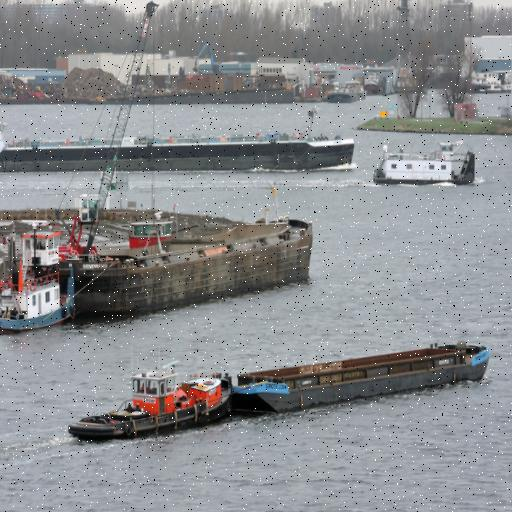tugboat: (66, 348, 236, 458), (1, 219, 79, 339), (371, 140, 482, 200)
